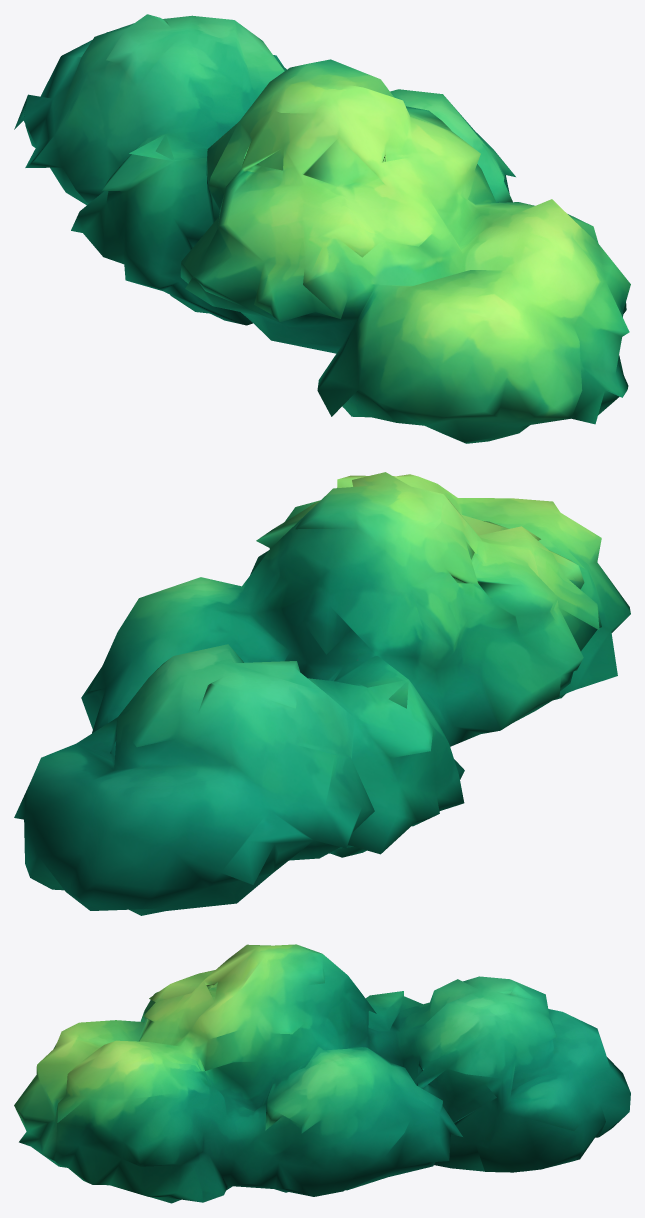
File: model_raw.glb
3 views of the same model, one above another, from view 1: azimuth 30°, elevation 25°; view 2: azimuth 150°, elevation 25°; view 3: azimuth 270°, elevation 25° (orthographic). The views are drawn at different scales.
Parts seen in each view (by area): view 1: tripo_node_16feffc8-77cd-42d2-aa58-6389f24e784f; view 2: tripo_node_16feffc8-77cd-42d2-aa58-6389f24e784f; view 3: tripo_node_16feffc8-77cd-42d2-aa58-6389f24e784f.
Boxes of the visible parts, <box> form: tripo_node_16feffc8-77cd-42d2-aa58-6389f24e784f: <box>14,14,630,443</box>; tripo_node_16feffc8-77cd-42d2-aa58-6389f24e784f: <box>14,472,630,915</box>; tripo_node_16feffc8-77cd-42d2-aa58-6389f24e784f: <box>14,944,630,1203</box>.
Size of the model in its own units: 0.4914 by 0.3663 by 1.
1 material, 1 textured.
